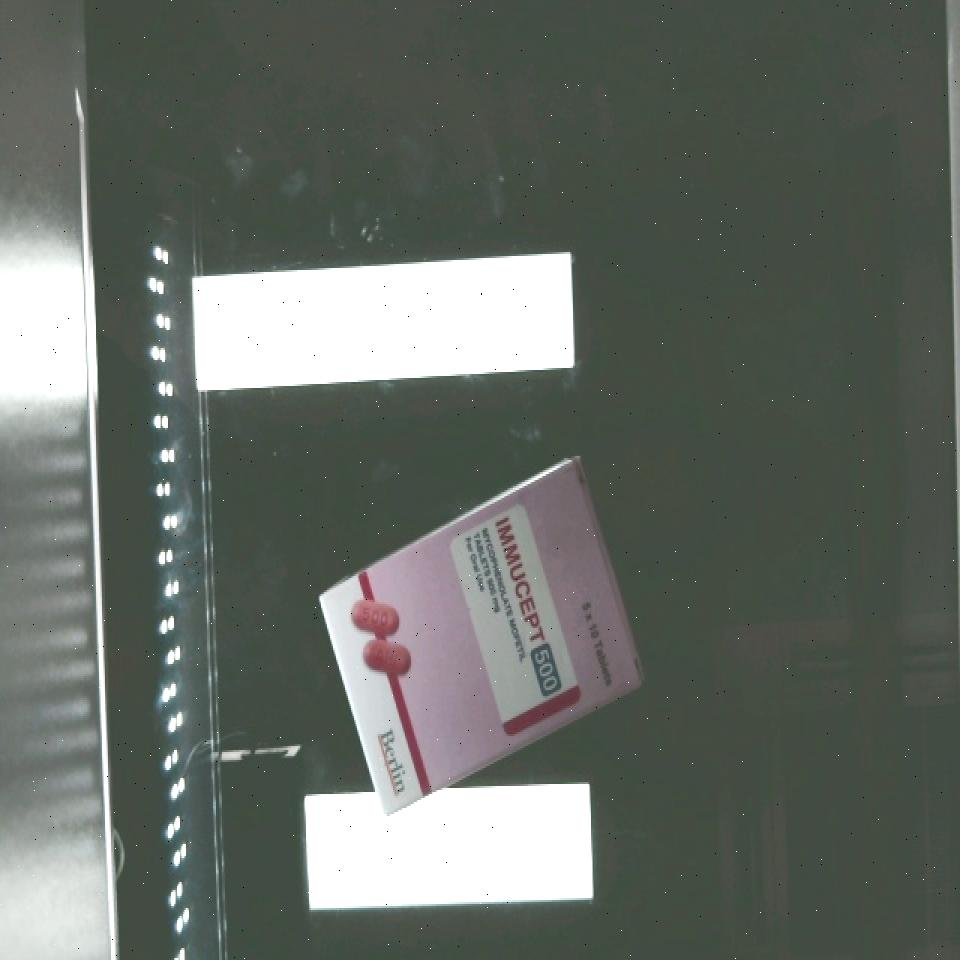medicine_box: (270, 449, 686, 824)
medicine_label_obb: (474, 502, 584, 718)
